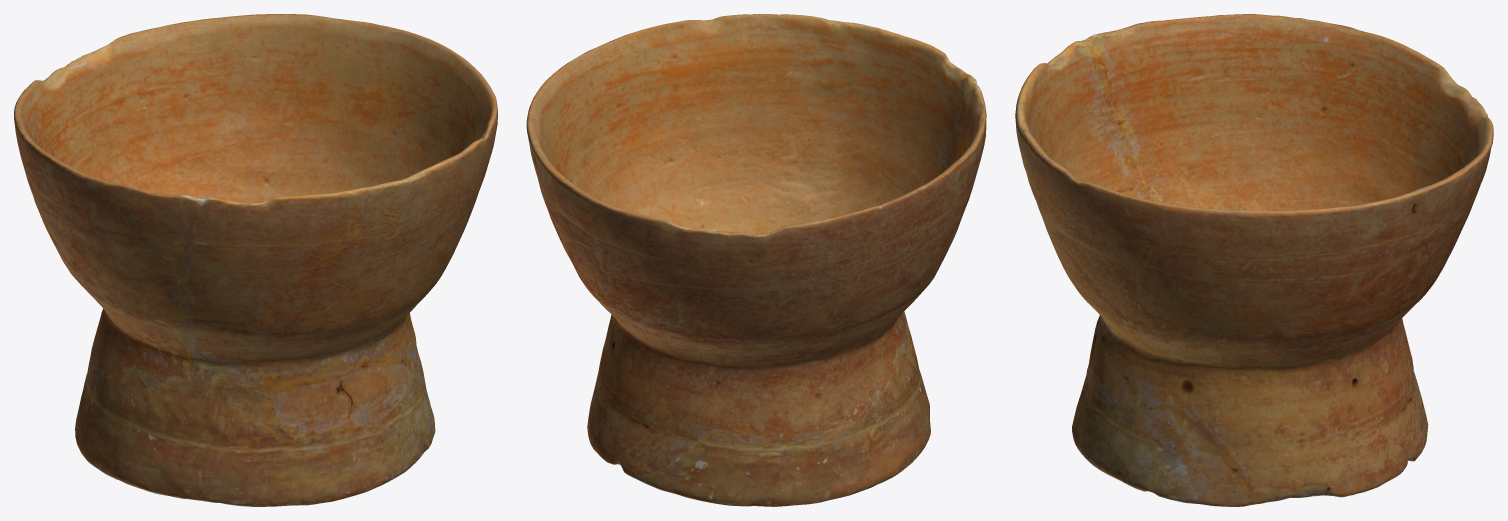
Rendered from “水波纹”彩陶豆.glb.
3 views of the same model, side by side, from view 1: azimuth 30°, elevation 25°; view 2: azimuth 150°, elevation 25°; view 3: azimuth 270°, elevation 25° (orthographic). The views are drawn at different scales.
Parts seen in each view (by area): view 1: default; view 2: default; view 3: default.
Boxes of the visible parts, x1,y1,x2,y2 form: default: (14, 14, 497, 506); default: (526, 14, 986, 506); default: (1015, 14, 1493, 506).
Size of the model in its own units: 3.33 by 2.61 by 3.37.
Materials: 1 (1 with a texture image).
